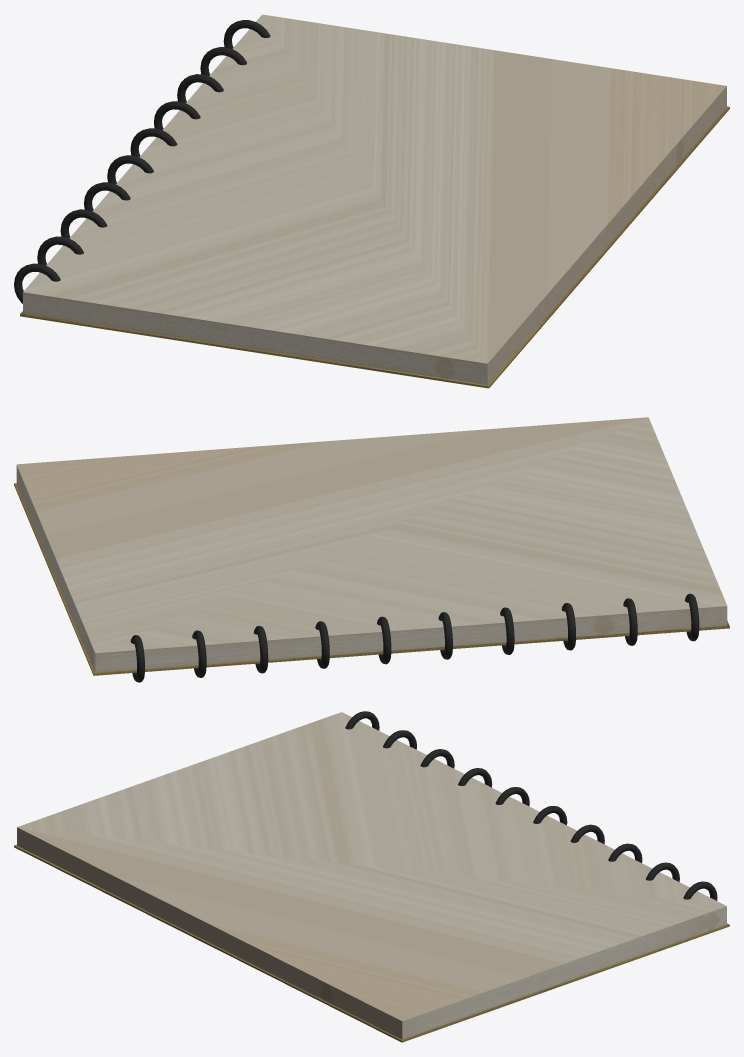
The model's file is desk_item_01.glb.
The picture shows the model from 3 angles, top to bottom: view 1: azimuth 30°, elevation 25°; view 2: azimuth 150°, elevation 25°; view 3: azimuth 270°, elevation 25°; orthographic projection. The views are drawn at different scales.
Visible parts, largest first — view 1: DeskItem01Mesh; view 2: DeskItem01Mesh; view 3: DeskItem01Mesh.
Boxes of the visible parts, bbox=[...] form: DeskItem01Mesh: bbox=[14, 14, 729, 388]; DeskItem01Mesh: bbox=[14, 417, 729, 682]; DeskItem01Mesh: bbox=[14, 711, 729, 1042].
Bounding box in the file's own units: 0.3653 × 0.0223 × 0.3546.
3 materials, 3 textured.
